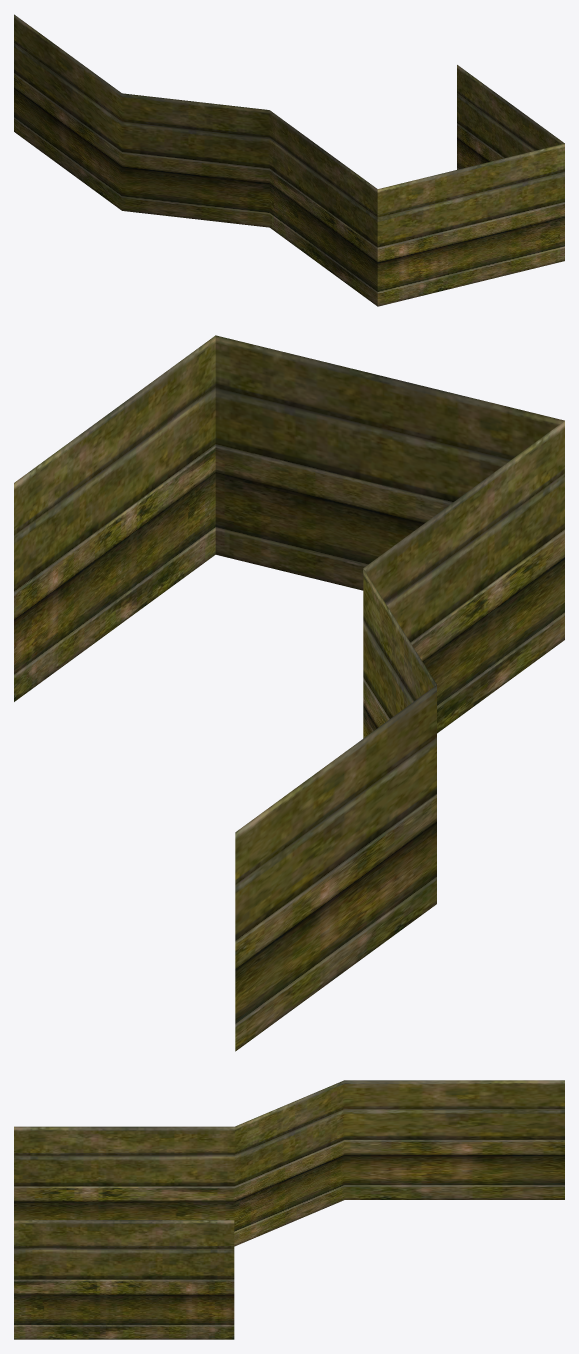
File: OVERHILL_A_01_LINE378.fbx
The picture shows the model from 3 angles, top to bottom: view 1: azimuth 30°, elevation 25°; view 2: azimuth 150°, elevation 25°; view 3: azimuth 270°, elevation 25°; orthographic projection. The views are drawn at different scales.
Parts seen in each view (by area): view 1: OVERHILL_A_01_LINE378; view 2: OVERHILL_A_01_LINE378; view 3: OVERHILL_A_01_LINE378.
Boxes of the visible parts, bbox=[...] form: OVERHILL_A_01_LINE378: bbox=[14, 14, 564, 306]; OVERHILL_A_01_LINE378: bbox=[14, 335, 564, 1051]; OVERHILL_A_01_LINE378: bbox=[14, 1080, 564, 1339].
Bounding box in the file's own units: 30000 × 12000 × 50000.
2 materials, 2 textured.
